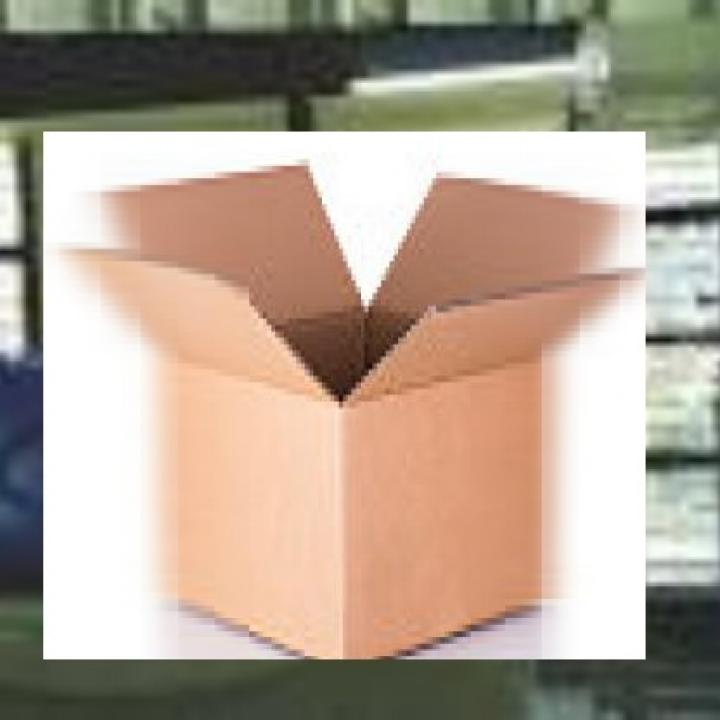box: (35, 125, 656, 668)
